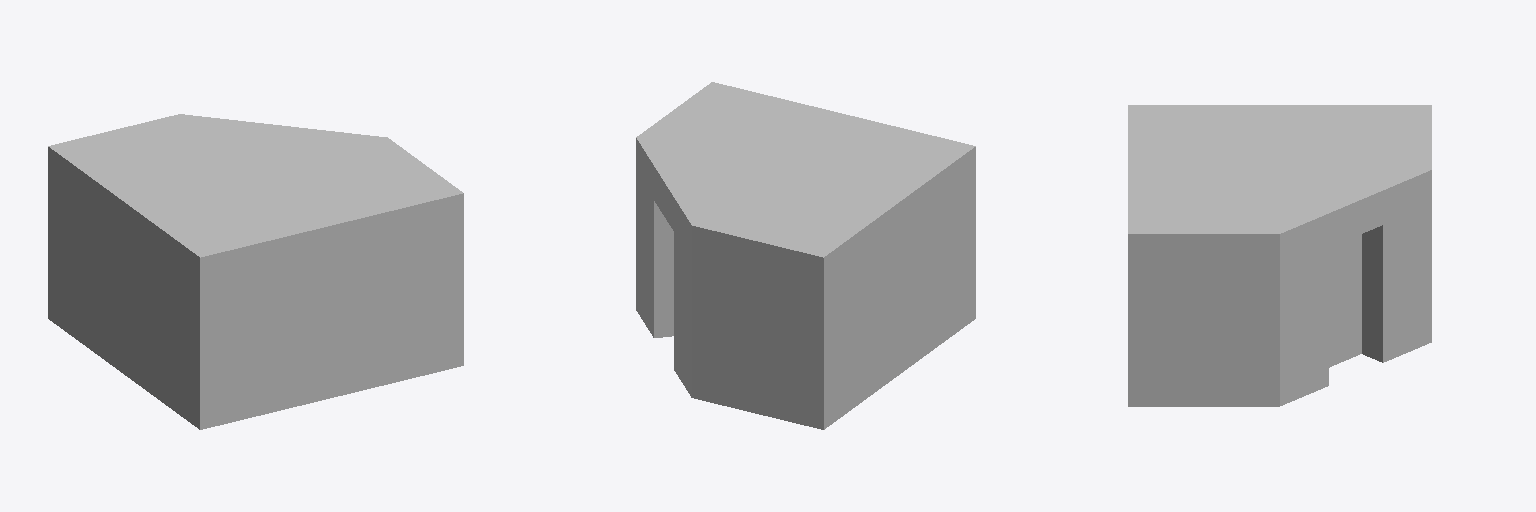
The model's file is building_051.obj.
3 renders of one model, left to right at view 1: azimuth 30°, elevation 25°; view 2: azimuth 150°, elevation 25°; view 3: azimuth 270°, elevation 25°, orthographic.
Parts seen in each view (by area): view 1: building_051; view 2: building_051; view 3: building_051.
Boxes of the visible parts, <box> form: building_051: <box>48,114,463,429</box>; building_051: <box>636,82,975,429</box>; building_051: <box>1128,105,1431,406</box>.
Size of the model in its own units: 1 by 0.625 by 1.